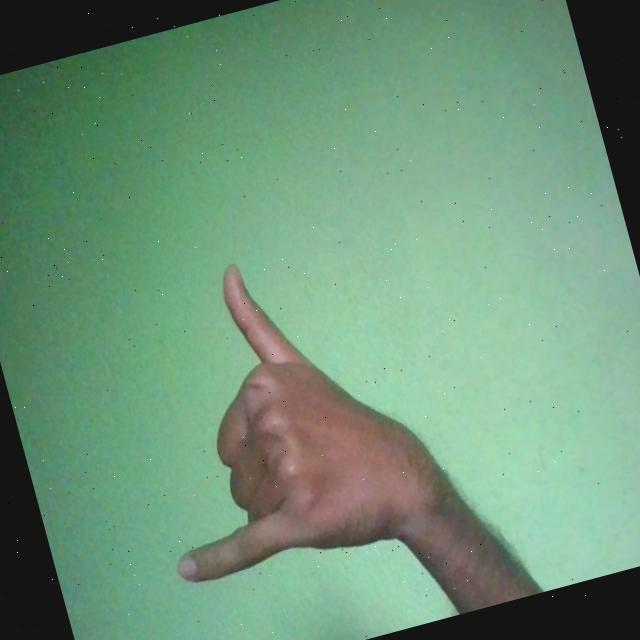Call Me: (103, 223, 466, 597)
